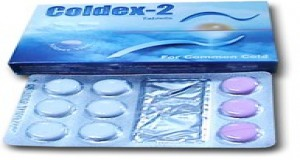Medicine: (7, 3, 284, 73)
